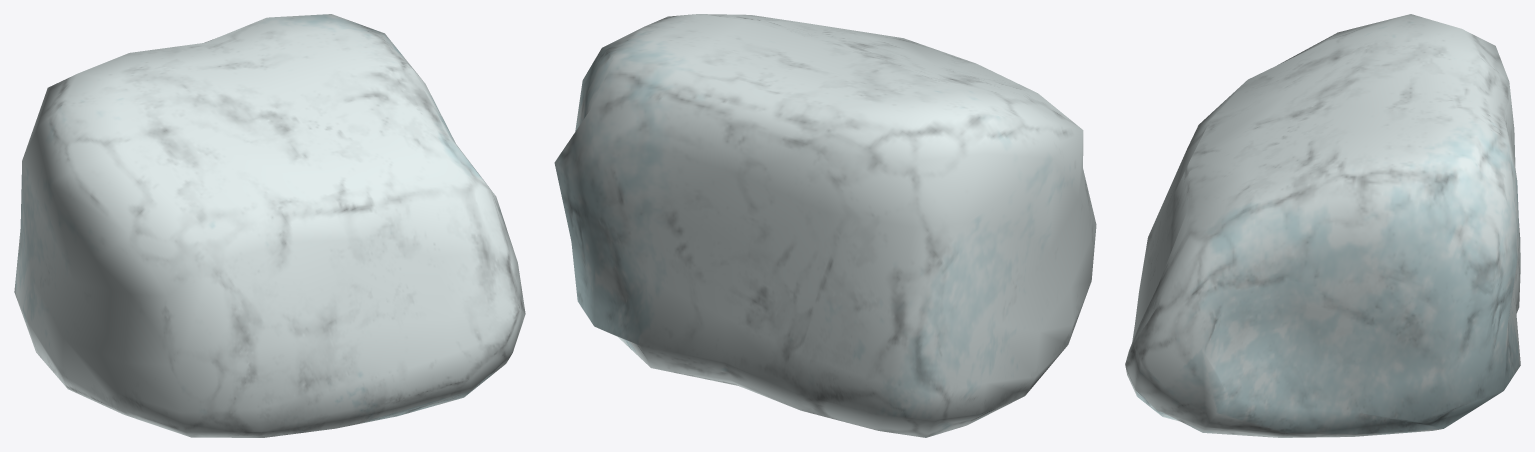
Rendered from IceBrock002.fbx.
3 views of the same model, side by side, from view 1: azimuth 30°, elevation 25°; view 2: azimuth 150°, elevation 25°; view 3: azimuth 270°, elevation 25° (orthographic). The views are drawn at different scales.
Visible parts, largest first — view 1: ice_brock1_low; view 2: ice_brock1_low; view 3: ice_brock1_low.
Part boxes in pixels (box(x1,y1,x2,y2)): ice_brock1_low: box(14, 14, 525, 437); ice_brock1_low: box(554, 14, 1096, 437); ice_brock1_low: box(1125, 14, 1520, 437).
Bounding box in the file's own units: 0.0845 × 0.0599 × 0.0749.
1 material, 1 textured.
